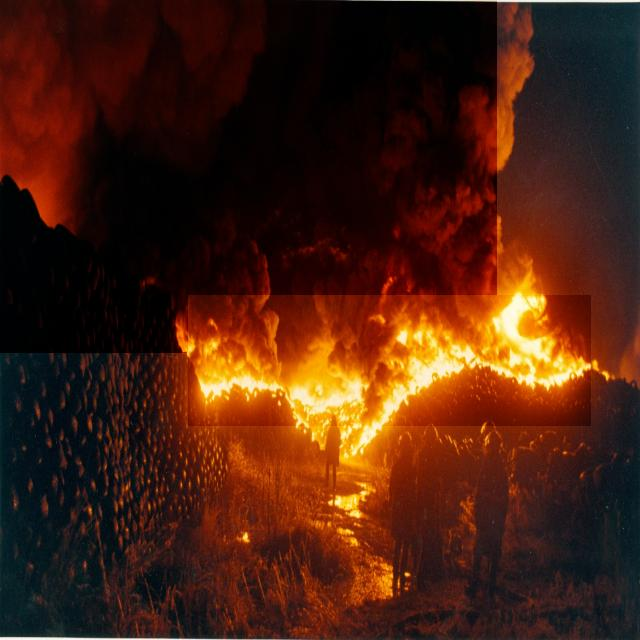Fire: (188, 295, 591, 426)
Smoke: (0, 0, 497, 353)
